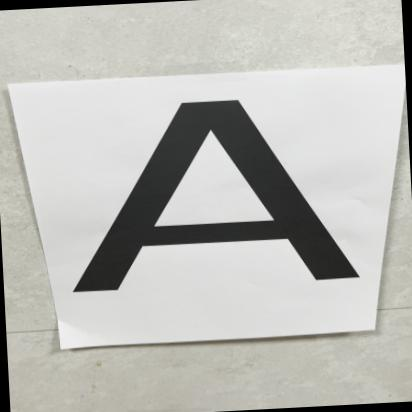seat: (39, 70, 354, 320)
